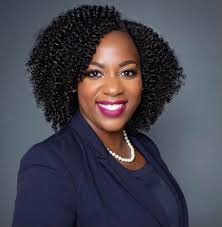no-mask: (58, 13, 166, 138)
